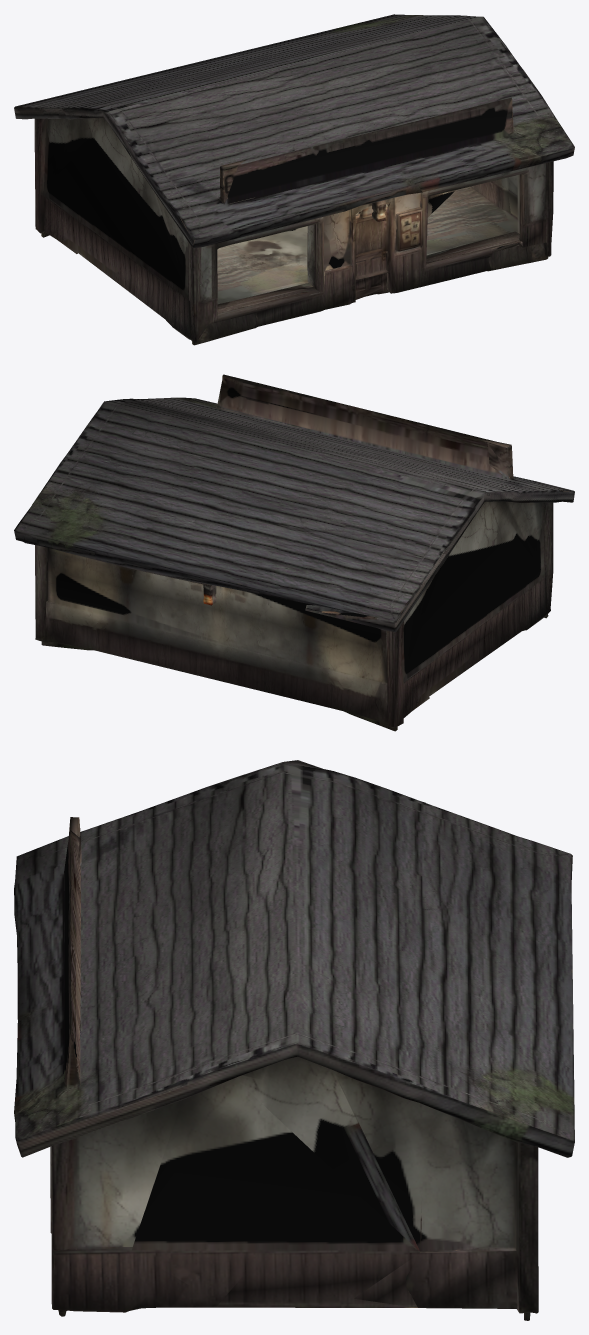
File: Shop.glb
3 views of the same model, one above another, from view 1: azimuth 30°, elevation 25°; view 2: azimuth 150°, elevation 25°; view 3: azimuth 270°, elevation 25° (orthographic). The views are drawn at different scales.
Visible parts, largest first — view 1: Mesh1.0; view 2: Mesh1.0; view 3: Mesh1.0.
Part boxes in pixels (<box>): Mesh1.0: <box>14,14,574,345</box>; Mesh1.0: <box>14,374,574,731</box>; Mesh1.0: <box>14,760,574,1320</box>.
Size of the model in its own units: 1.92 by 0.8875 by 1.57.
1 material, 1 textured.
